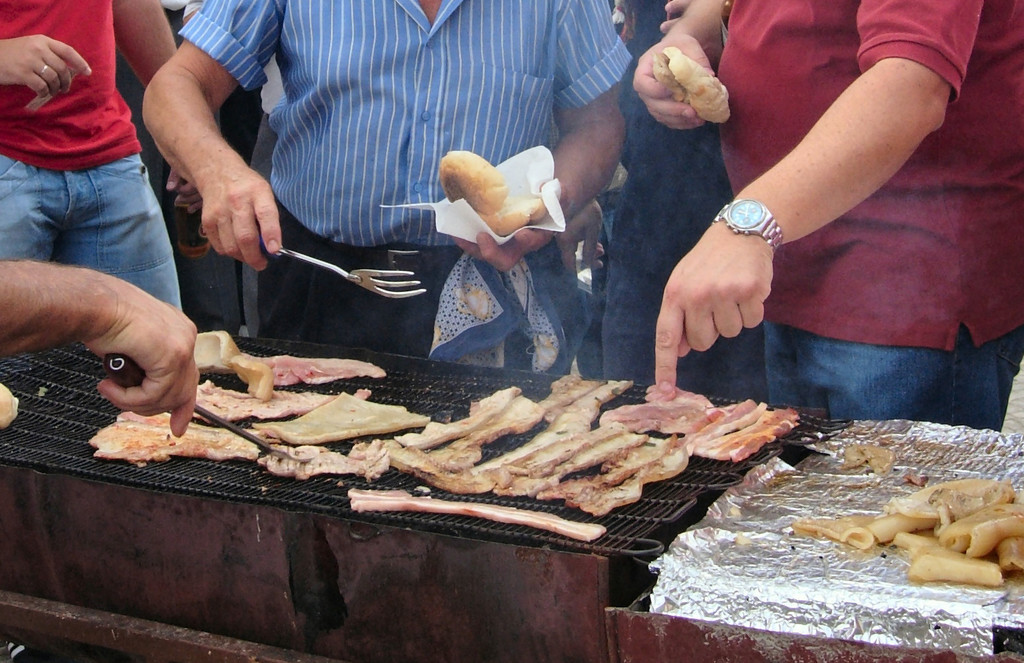Person: (0, 0, 1024, 438)
